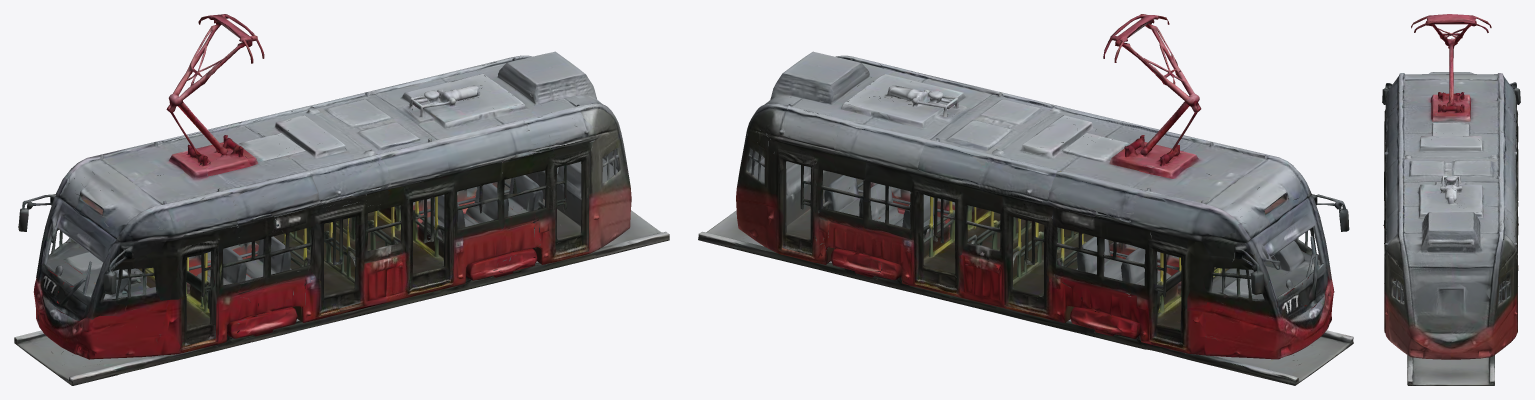
Rendered from tram.glb.
The picture shows the model from 3 angles, left to right: view 1: azimuth 30°, elevation 25°; view 2: azimuth 150°, elevation 25°; view 3: azimuth 270°, elevation 25°; orthographic projection. The views are drawn at different scales.
Parts seen in each view (by area): view 1: tripo_node_2de9e523; view 2: tripo_node_2de9e523; view 3: tripo_node_2de9e523.
Part boxes in pixels (bbox=[...]): tripo_node_2de9e523: bbox=[14, 14, 669, 385]; tripo_node_2de9e523: bbox=[698, 14, 1353, 385]; tripo_node_2de9e523: bbox=[1382, 14, 1520, 385].
Size of the model in its own units: 0.9998 by 0.4731 by 0.2686.
Materials: 1 (1 with a texture image).
